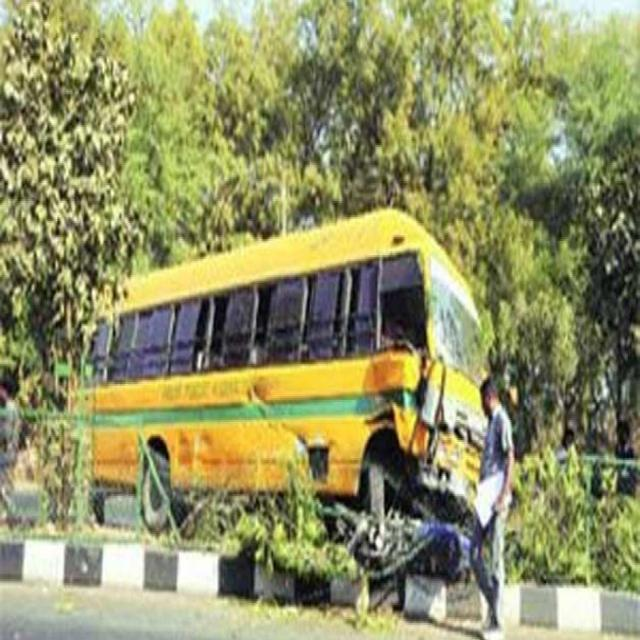accident: (86, 209, 485, 588)
